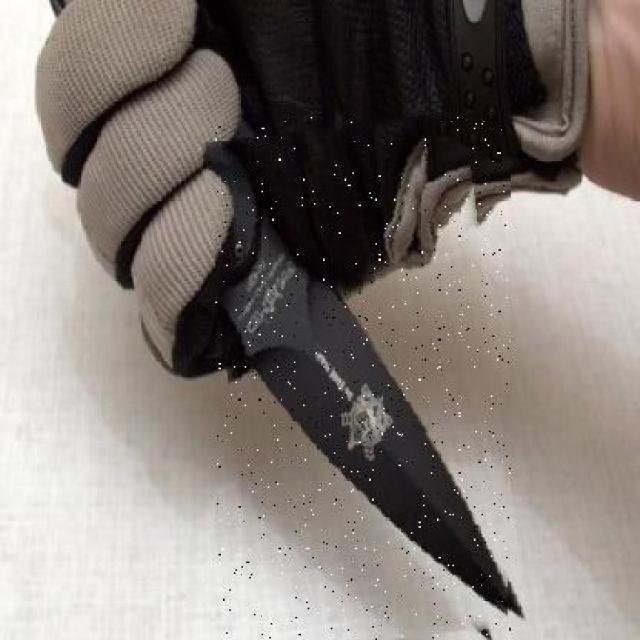knife: (215, 117, 510, 640)
